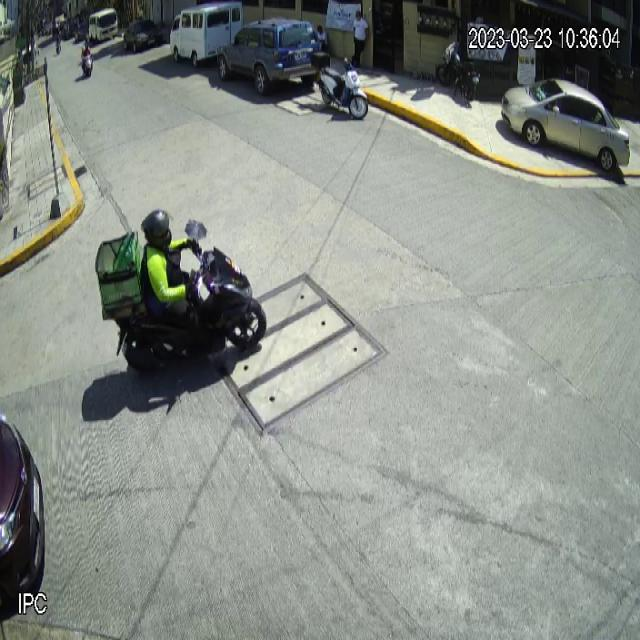Car: (501, 78, 632, 173), (217, 17, 323, 89)
Motorcycle: (105, 220, 268, 372), (310, 48, 368, 122)
Van: (170, 1, 242, 67)
